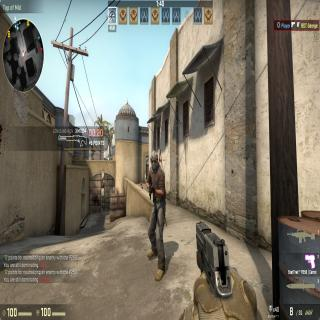T-Body: (147, 150, 165, 280)
T-Head: (148, 150, 160, 172)
